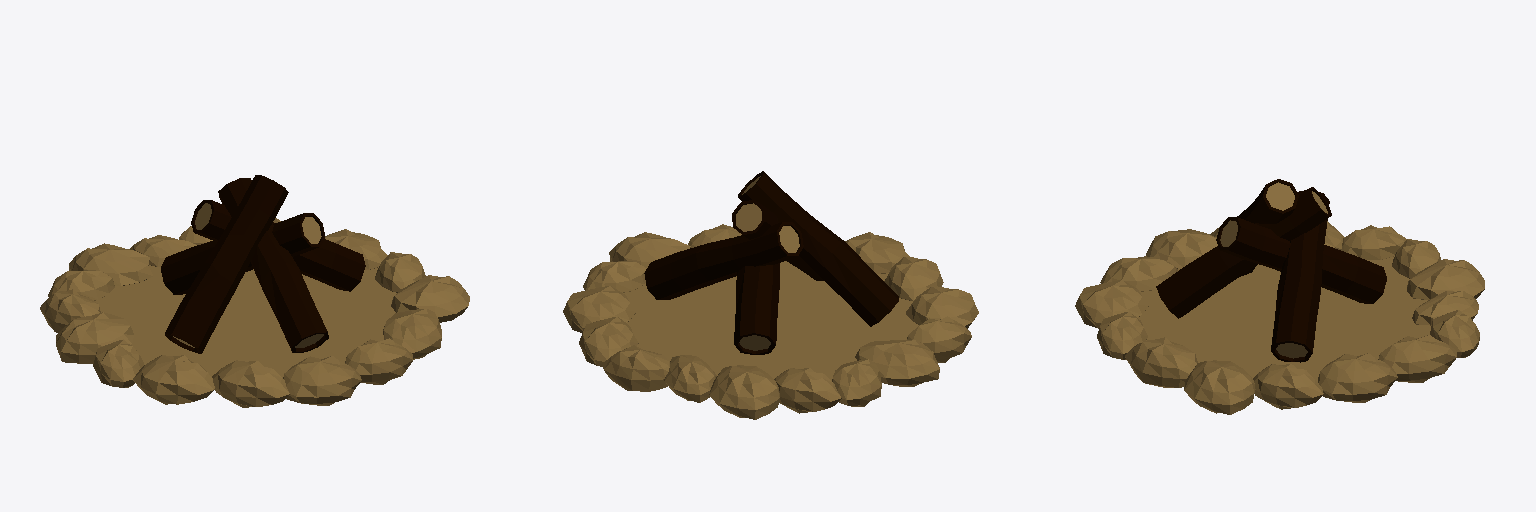
The model's file is Campfire2.obj.
The picture shows the model from 3 angles: view 1: azimuth 30°, elevation 25°; view 2: azimuth 150°, elevation 25°; view 3: azimuth 270°, elevation 25°; orthographic projection.
Visible parts, largest first — view 1: Cylinder001, Pino1_Tronco004, Pino1_Tronco001, Pino1_Tronco002, Pino1_Tronco003, Sphere018, Sphere003, Sphere019, Sphere011, Sphere006, Sphere016, Sphere004 (+7 smaller); view 2: Cylinder001, Pino1_Tronco004, Pino1_Tronco002, Pino1_Tronco003, Sphere016, Sphere011, Sphere015, Sphere017, Sphere013, Sphere018, Sphere014, Sphere010 (+8 smaller); view 3: Cylinder001, Pino1_Tronco002, Pino1_Tronco003, Pino1_Tronco001, Sphere013, Sphere006, Sphere005, Sphere014, Sphere007, Sphere016, Sphere003, Sphere018 (+7 smaller).
Part boxes in pixels (left/top/right/bottom): Cylinder001: left=95, top=265, right=396, bottom=388; Pino1_Tronco004: left=165, top=175, right=288, bottom=353; Pino1_Tronco001: left=218, top=178, right=328, bottom=352; Pino1_Tronco002: left=191, top=200, right=365, bottom=291; Pino1_Tronco003: left=161, top=213, right=324, bottom=294; Sphere018: left=133, top=355, right=214, bottom=404; Sphere003: left=283, top=356, right=361, bottom=405; Sphere019: left=212, top=360, right=289, bottom=407; Sphere011: left=56, top=312, right=133, bottom=363; Sphere006: left=391, top=275, right=469, bottom=322; Sphere016: left=69, top=243, right=152, bottom=285; Sphere004: left=345, top=338, right=412, bottom=384; Cylinder001: left=623, top=261, right=918, bottom=380; Pino1_Tronco004: left=738, top=171, right=898, bottom=326; Pino1_Tronco002: left=644, top=222, right=803, bottom=299; Pino1_Tronco003: left=734, top=263, right=779, bottom=354; Sphere016: left=709, top=365, right=779, bottom=419; Sphere011: left=855, top=340, right=939, bottom=386; Sphere015: left=602, top=345, right=669, bottom=391; Sphere017: left=774, top=368, right=841, bottom=413; Sphere013: left=563, top=286, right=635, bottom=332; Sphere018: left=906, top=286, right=978, bottom=328; Sphere014: left=579, top=317, right=638, bottom=366; Sphere010: left=832, top=359, right=881, bottom=406; Cylinder001: left=1138, top=256, right=1430, bottom=381; Pino1_Tronco002: left=1271, top=190, right=1329, bottom=362; Pino1_Tronco003: left=1216, top=217, right=1386, bottom=303; Pino1_Tronco001: left=1156, top=187, right=1331, bottom=318; Sphere013: left=1318, top=353, right=1397, bottom=402; Sphere006: left=1184, top=360, right=1255, bottom=414; Sphere005: left=1125, top=337, right=1197, bottom=387; Sphere014: left=1378, top=335, right=1456, bottom=382; Sphere007: left=1253, top=364, right=1323, bottom=409; Sphere016: left=1407, top=259, right=1484, bottom=299; Sphere003: left=1075, top=280, right=1148, bottom=328; Sphere018: left=1146, top=229, right=1217, bottom=268.
Bounding box in the file's own units: 1.91 × 0.7956 × 1.85.